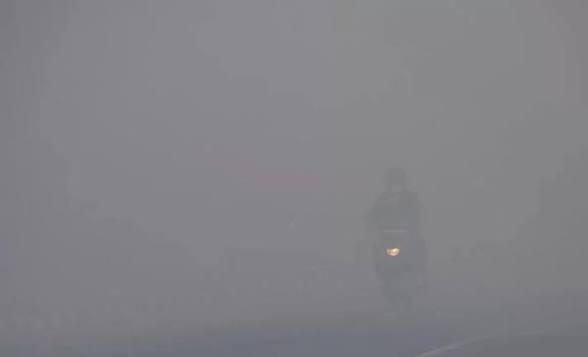Kendaraan: (370, 222, 430, 315)
Manusia: (366, 167, 422, 241)
